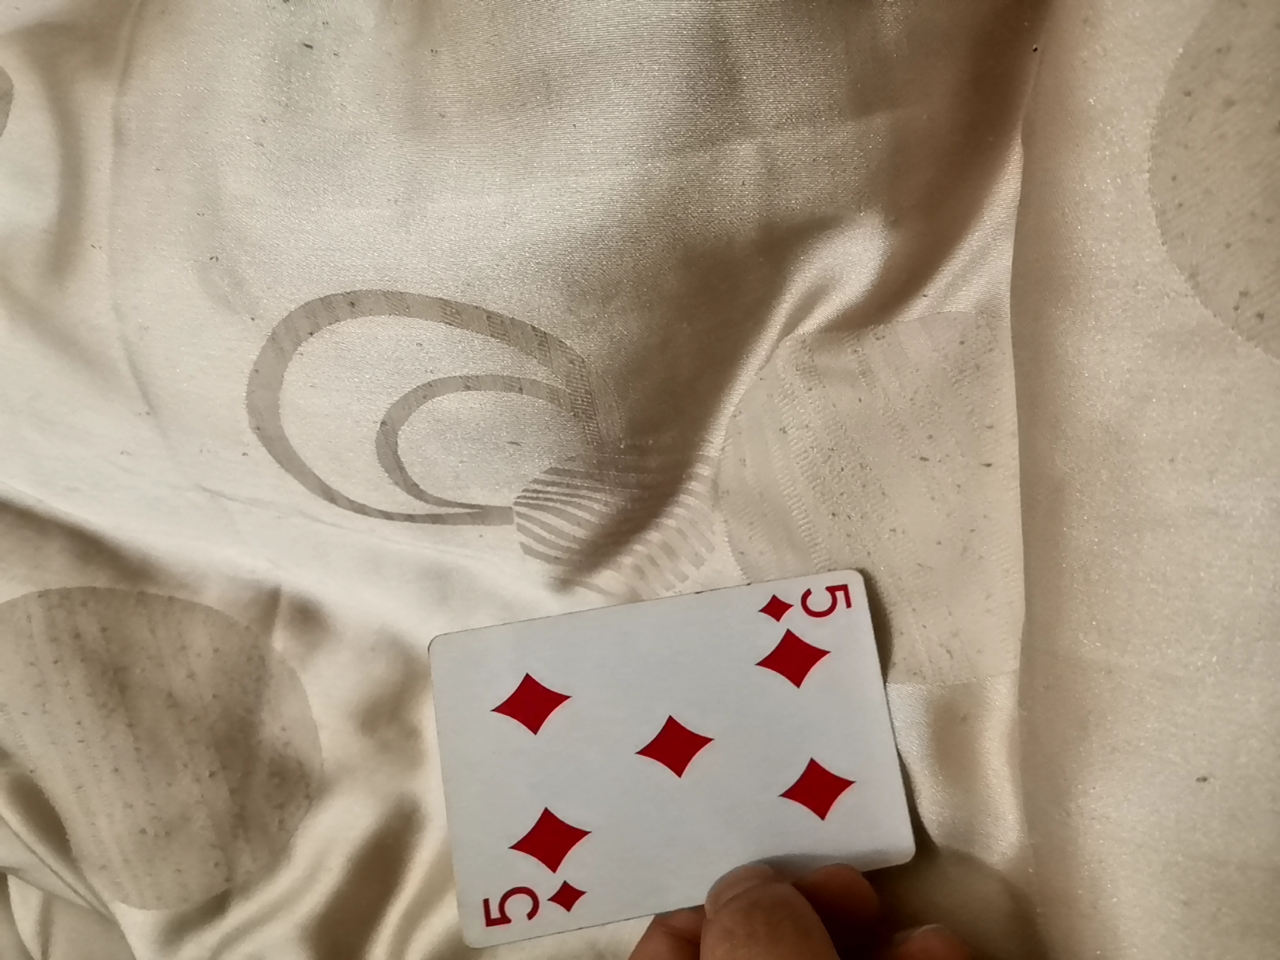fk 5: (432, 557, 935, 951)
